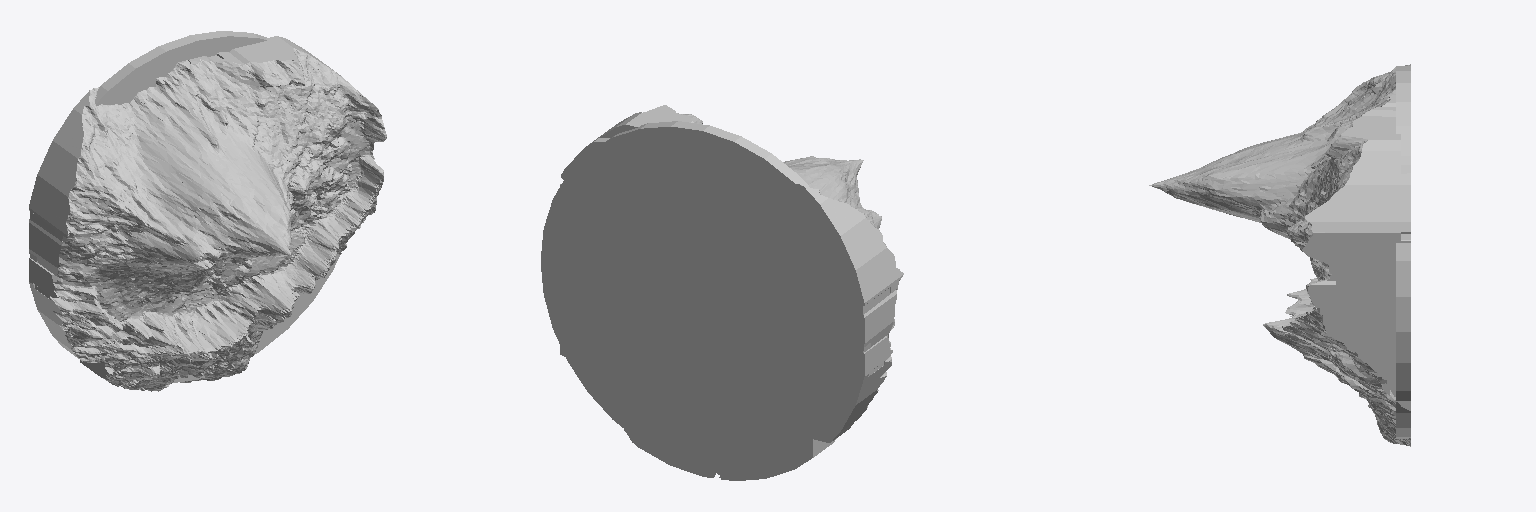
3 renders of one model, left to right at view 1: azimuth 30°, elevation 25°; view 2: azimuth 150°, elevation 25°; view 3: azimuth 270°, elevation 25°, orthographic.
Parts seen in each view (by area): view 1: obj_0; view 2: obj_0; view 3: obj_0.
Part boxes in pixels (x1,y1,x2,y2): obj_0: (29, 31, 386, 391); obj_0: (541, 105, 903, 480); obj_0: (1149, 64, 1410, 446).
Bounding box in the file's own units: 50 × 51 × 35.